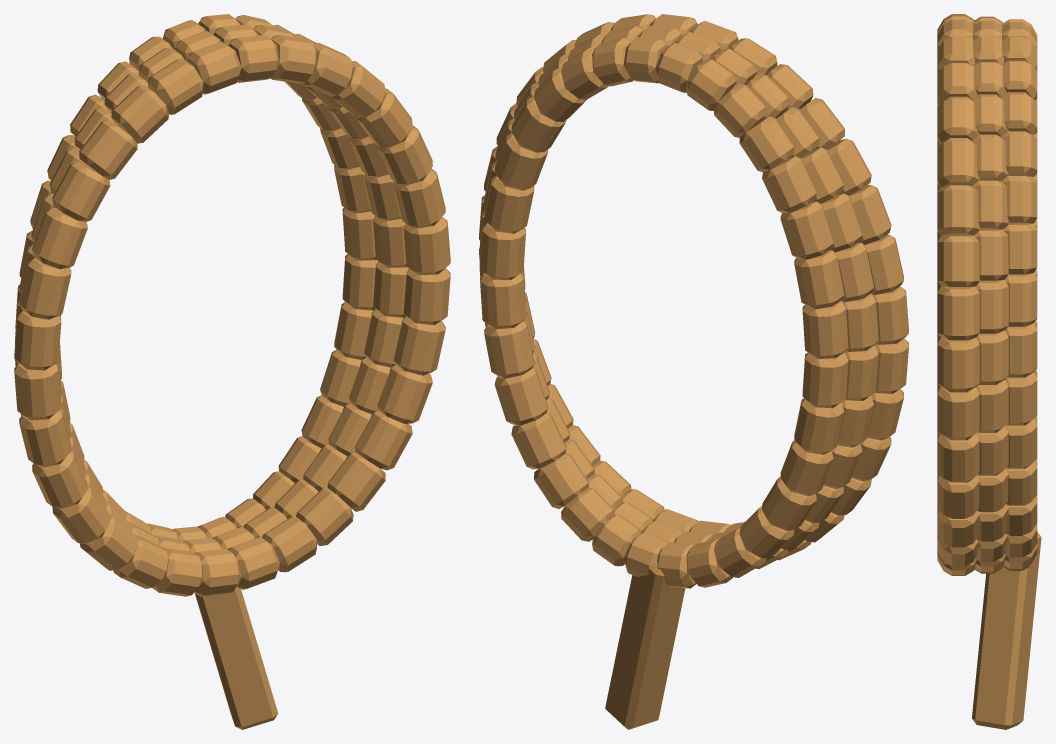
Rendered from hanging_rope.glb.
3 views of the same model, side by side, from view 1: azimuth 30°, elevation 25°; view 2: azimuth 150°, elevation 25°; view 3: azimuth 270°, elevation 25° (orthographic). The views are drawn at different scales.
Visible parts, largest first — view 1: hanging_rope__body__wood3; view 2: hanging_rope__body__wood3; view 3: hanging_rope__body__wood3.
Part boxes in pixels (x1,y1,x2,y2): hanging_rope__body__wood3: [14, 14, 450, 729]; hanging_rope__body__wood3: [479, 14, 908, 729]; hanging_rope__body__wood3: [937, 14, 1041, 729].
Size of the model in its own units: 0.4942 by 0.7751 by 0.1082.
